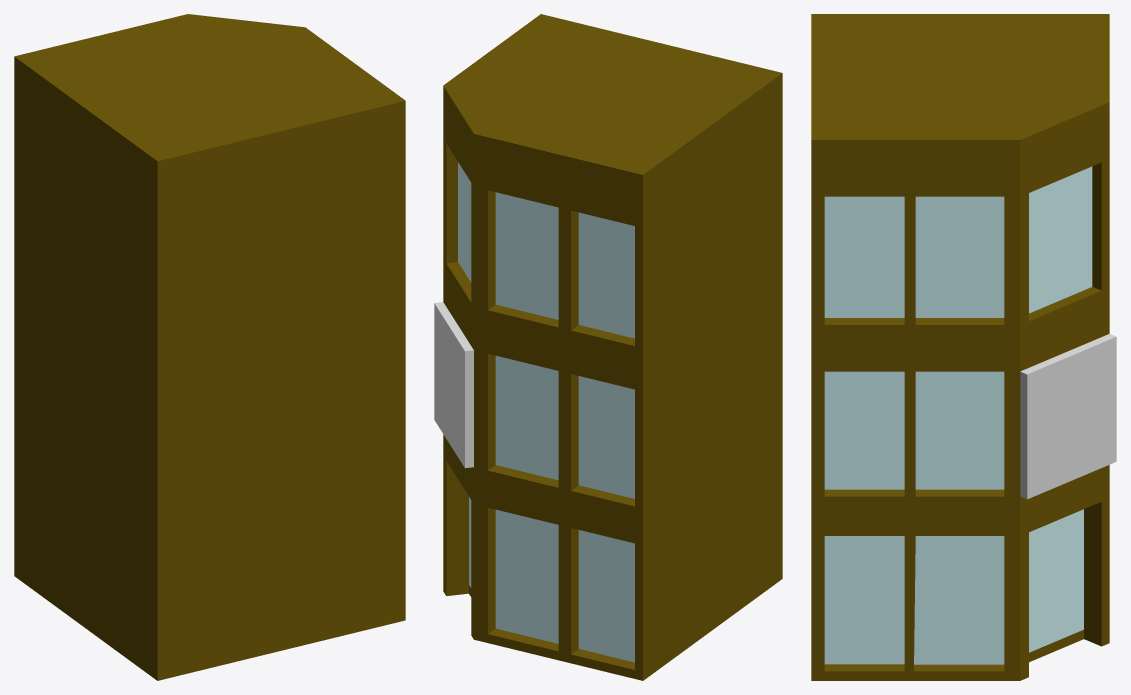
File: Haneji_test.fbx
3 renders of one model, left to right at view 1: azimuth 30°, elevation 25°; view 2: azimuth 150°, elevation 25°; view 3: azimuth 270°, elevation 25°, orthographic. The views are drawn at different scales.
Visible parts, largest first — view 1: m150; view 2: m150; view 3: m150.
Part boxes in pixels (x1,y1,x2,y2): m150: [14, 14, 405, 680]; m150: [434, 14, 782, 680]; m150: [811, 14, 1116, 680].
Size of the model in its own units: 768 by 1500 by 768.
